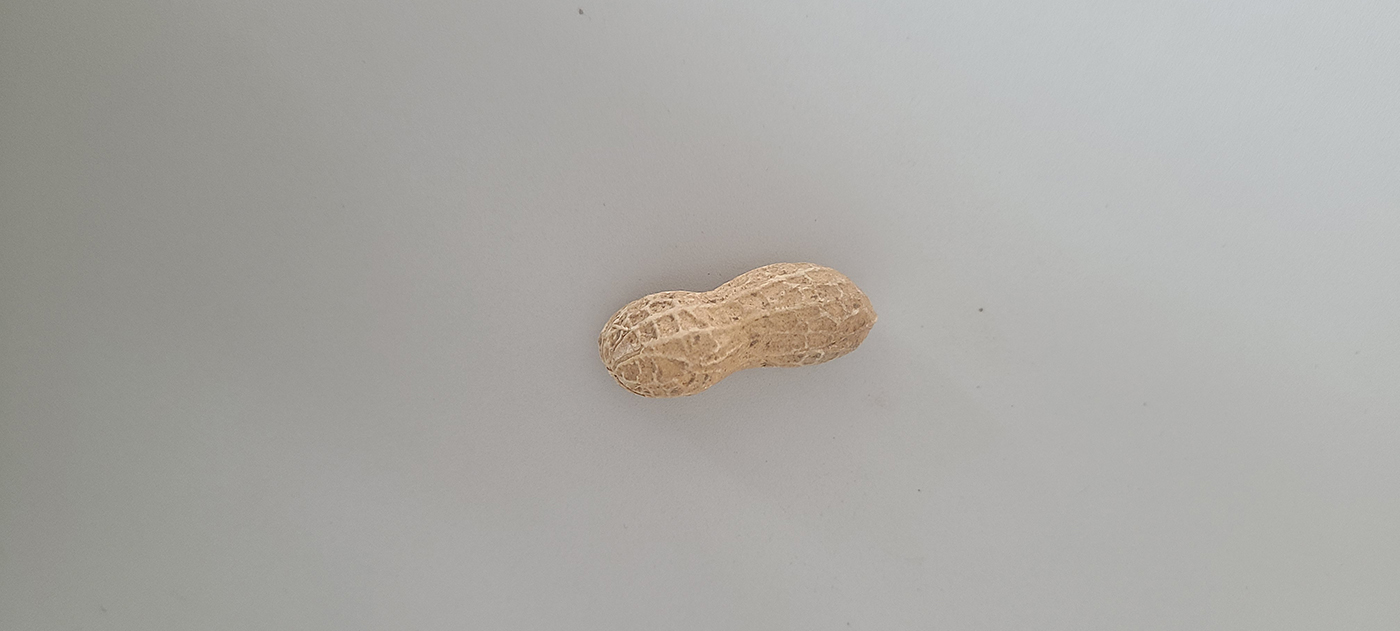h: (600, 259, 879, 396)
